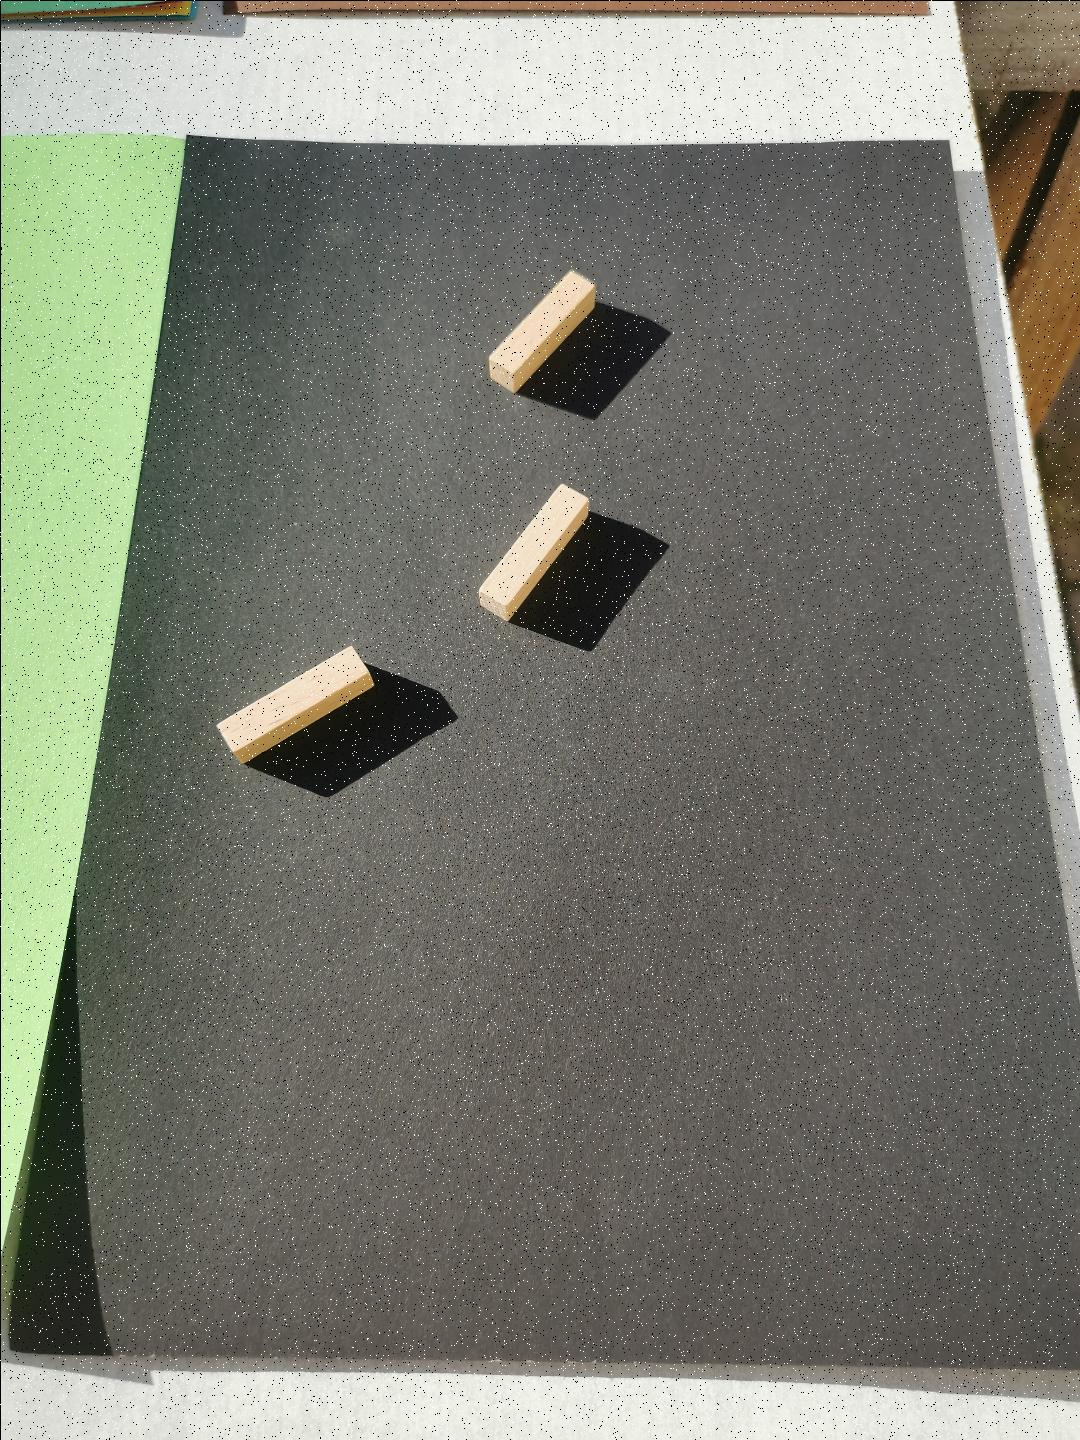jenga: (217, 647, 374, 762), (478, 484, 588, 619), (489, 270, 593, 391)
